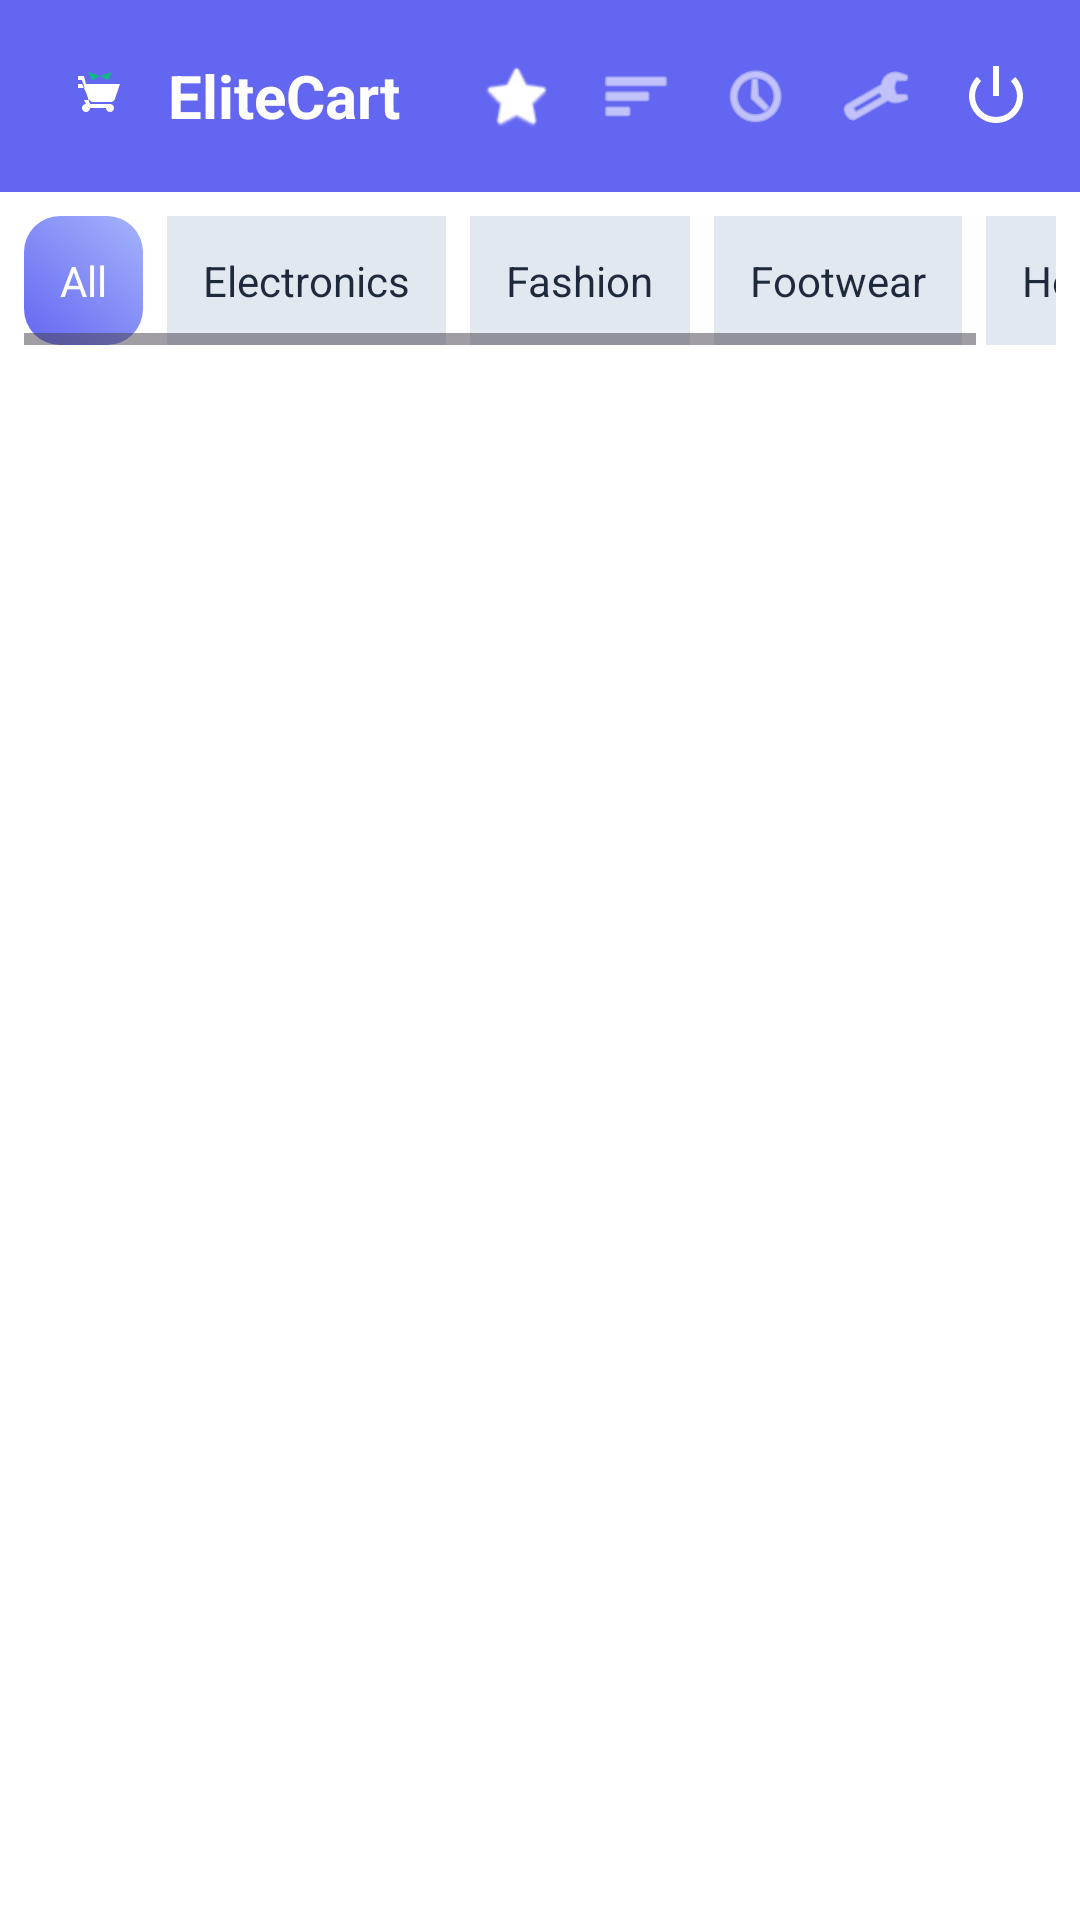

Point at icon controls on the screen. Image size 1080w x 1920h, points as point (x, y).
lock power off: point (996, 94)
manage: point (876, 96)
recent history: point (756, 96)
sort by size: point (636, 96)
star on: point (517, 96)
